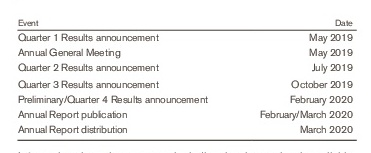table: (0, 0, 371, 153)
